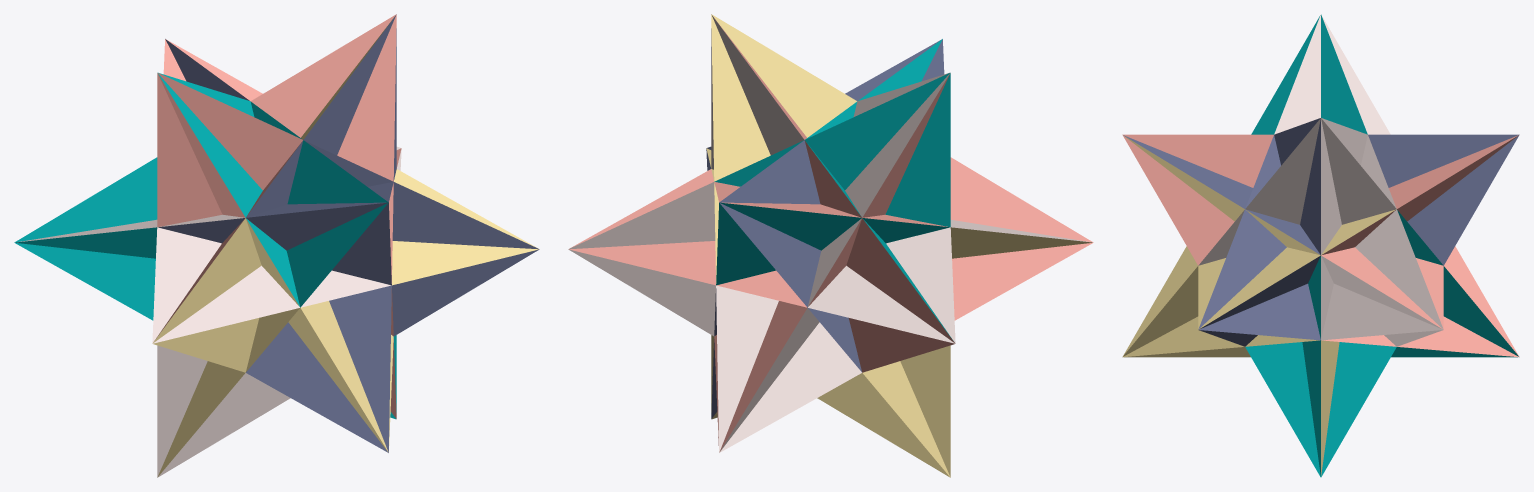
3 renders of one model, left to right at view 1: azimuth 30°, elevation 25°; view 2: azimuth 150°, elevation 25°; view 3: azimuth 270°, elevation 25°, orthographic. The views are drawn at different scales.
Parts seen in each view (by area): view 1: Great_Icosahedron_Colored; view 2: Great_Icosahedron_Colored; view 3: Great_Icosahedron_Colored.
Part boxes in pixels (x1,y1,x2,y2): Great_Icosahedron_Colored: [14, 14, 539, 477]; Great_Icosahedron_Colored: [568, 14, 1093, 477]; Great_Icosahedron_Colored: [1122, 14, 1519, 477].
Bounding box in the file's own units: 52.36 × 52.36 × 52.36.
